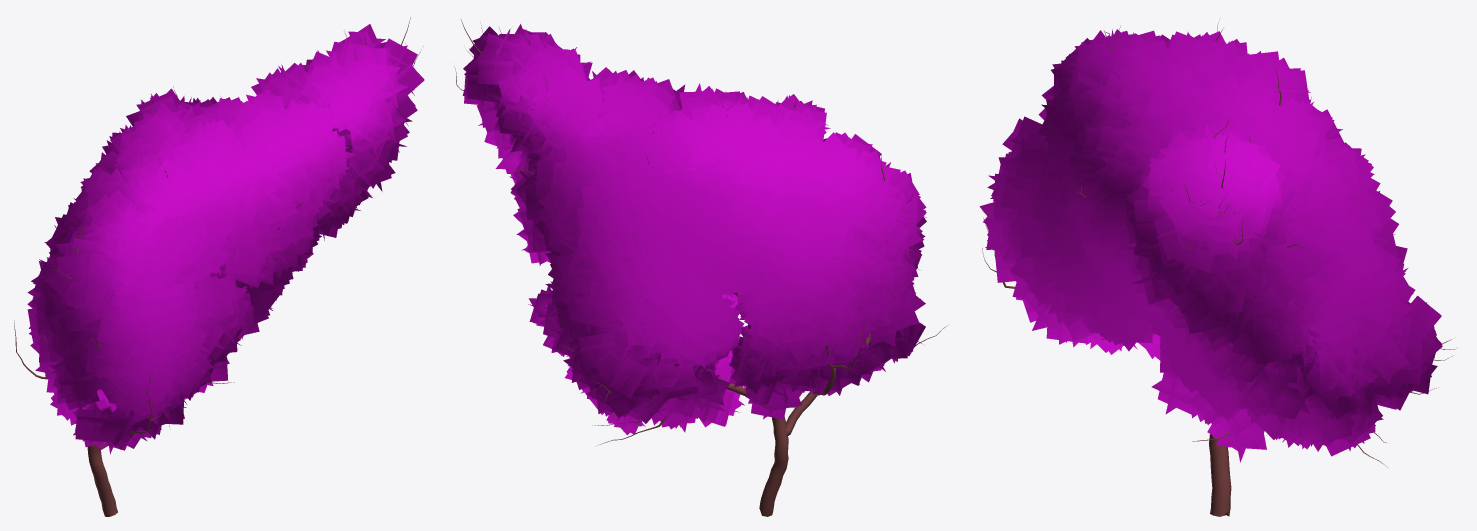
File: Tree6.fbx
The picture shows the model from 3 angles, left to right: view 1: azimuth 30°, elevation 25°; view 2: azimuth 150°, elevation 25°; view 3: azimuth 270°, elevation 25°; orthographic projection. The views are drawn at different scales.
Parts seen in each view (by area): view 1: Tree:Trunk1; view 2: Tree:Trunk1; view 3: Tree:Trunk1.
Boxes of the visible parts, bbox=[...] form: Tree:Trunk1: bbox=[14, 17, 424, 516]; Tree:Trunk1: bbox=[454, 19, 947, 516]; Tree:Trunk1: bbox=[979, 22, 1456, 516].
Bounding box in the file's own units: 693 × 690 × 547.
